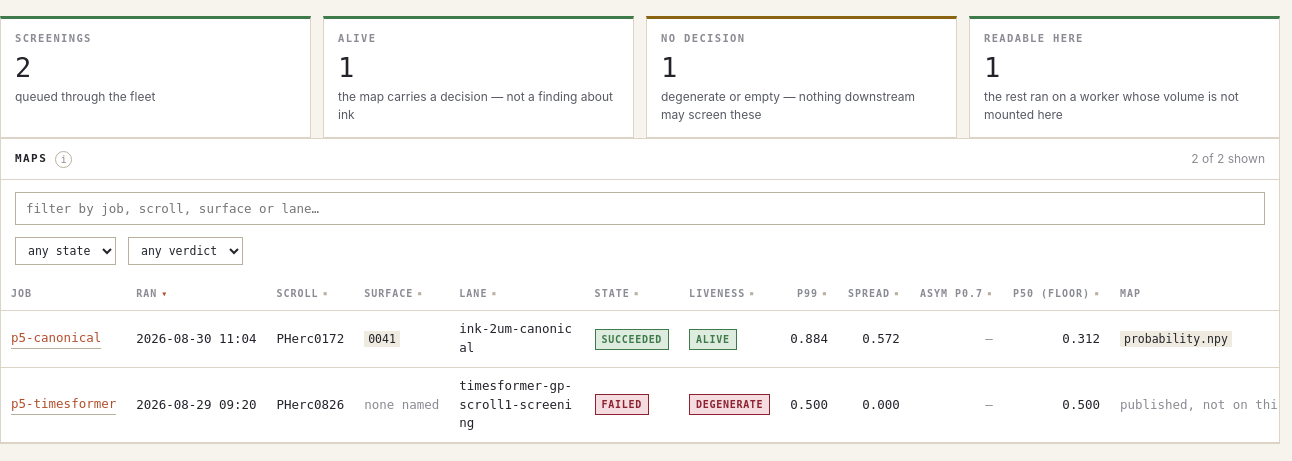
Scenario: the P5 run table › filters by liveness verdict, which is the column that decides
Expected: the button "p5-canonical" is shown, [11,329,101,349]
Select "degenerate" in the dropdown named "Filter by liveness verdict": (186, 251) [128,237,243,265]
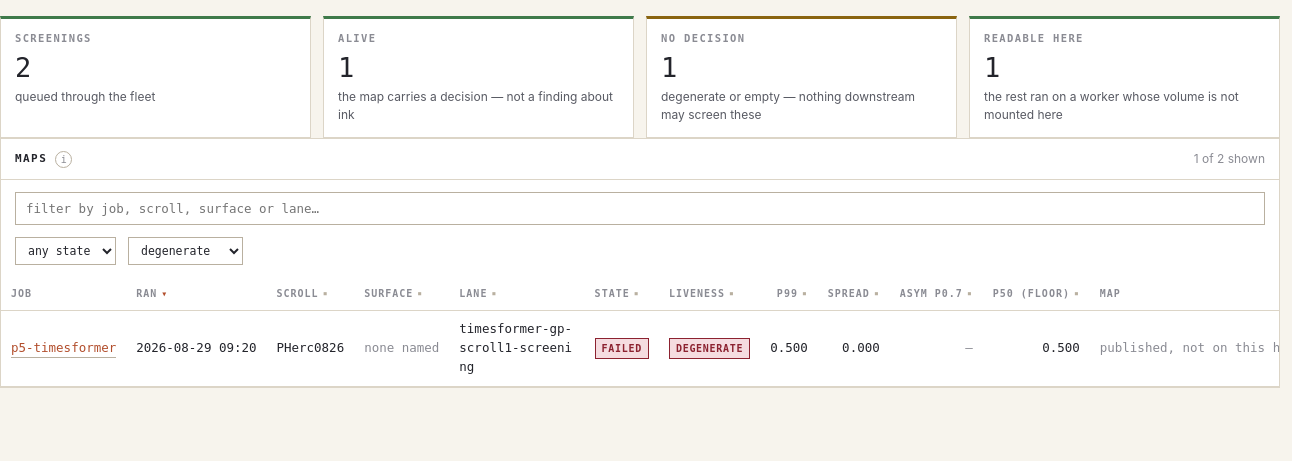
Expected: the button "p5-timesformer" is shown, [11,338,116,358]
Result: the button "p5-canonical" is gone
